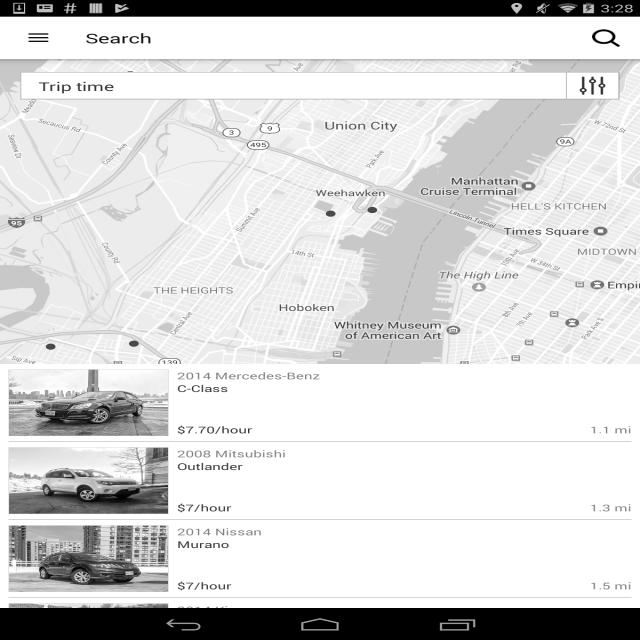ImageButton: (9, 17, 68, 59), (20, 567, 66, 595), (574, 567, 620, 595)
ImageView: (8, 369, 168, 436), (8, 447, 168, 514), (8, 525, 168, 592), (8, 603, 168, 640), (5, 590, 70, 605), (580, 76, 605, 95)
TextView: (21, 73, 566, 99), (229, 567, 411, 595), (177, 369, 320, 382), (580, 22, 632, 54), (177, 447, 286, 460), (85, 29, 152, 47), (177, 525, 262, 538), (177, 423, 252, 436), (177, 460, 243, 473), (177, 603, 236, 616), (177, 501, 232, 514), (177, 579, 232, 592), (177, 538, 229, 551), (177, 382, 228, 395), (590, 423, 631, 436), (590, 501, 631, 514), (590, 579, 631, 592)
